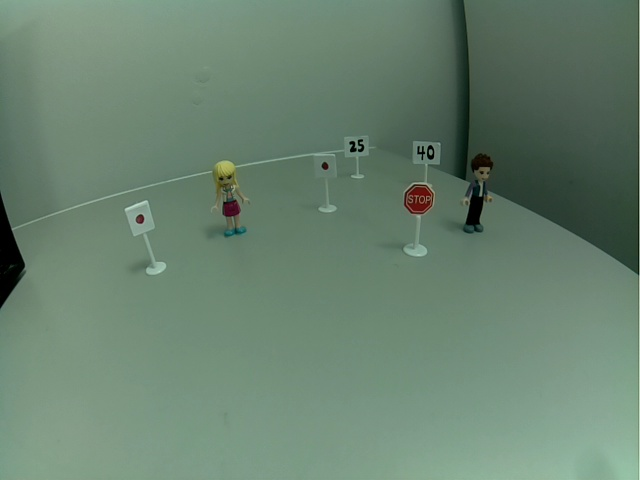people: (207, 158, 255, 239), (458, 153, 497, 237)
red light: (123, 199, 156, 238), (311, 152, 338, 181)
speed 25: (344, 134, 370, 159)
speed 40: (411, 140, 442, 165)
stop: (401, 181, 435, 217)
